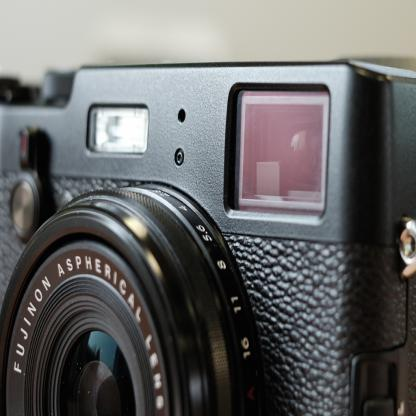Camera: (1, 39, 416, 416)
